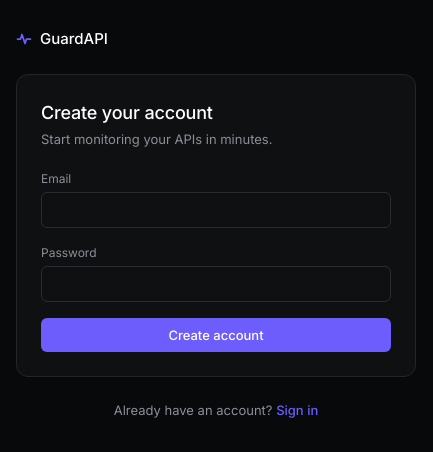
Test: RegisterPage › shows the server error message for a duplicate account
The image size is (433, 452).
In the field labelled "Email": [216, 210] box [41,192,391,228], type "a@b.com"
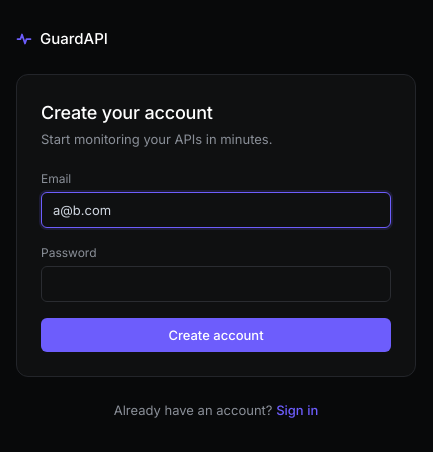
In the password field labelled "Password": [216, 284] box [41,266,391,302], type "password123"
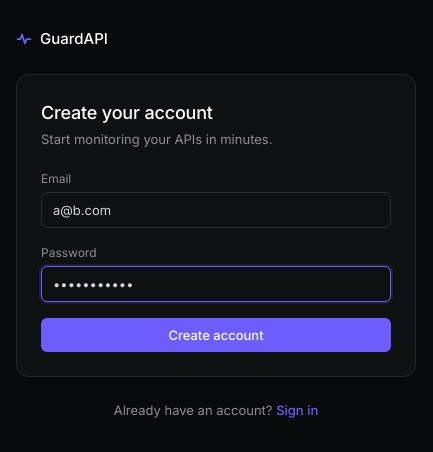
Click the button "Create account": [216, 335] box [41,318,391,352]
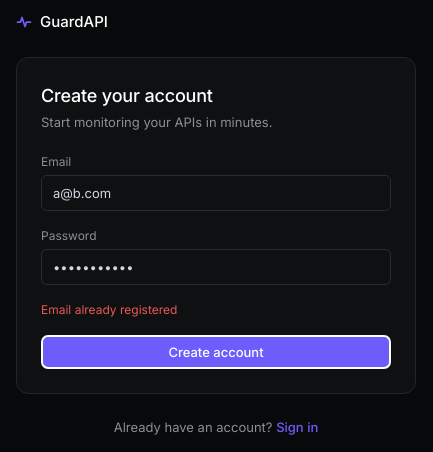
expect the message reads "Email already registered": met, box [41,302,177,317]
